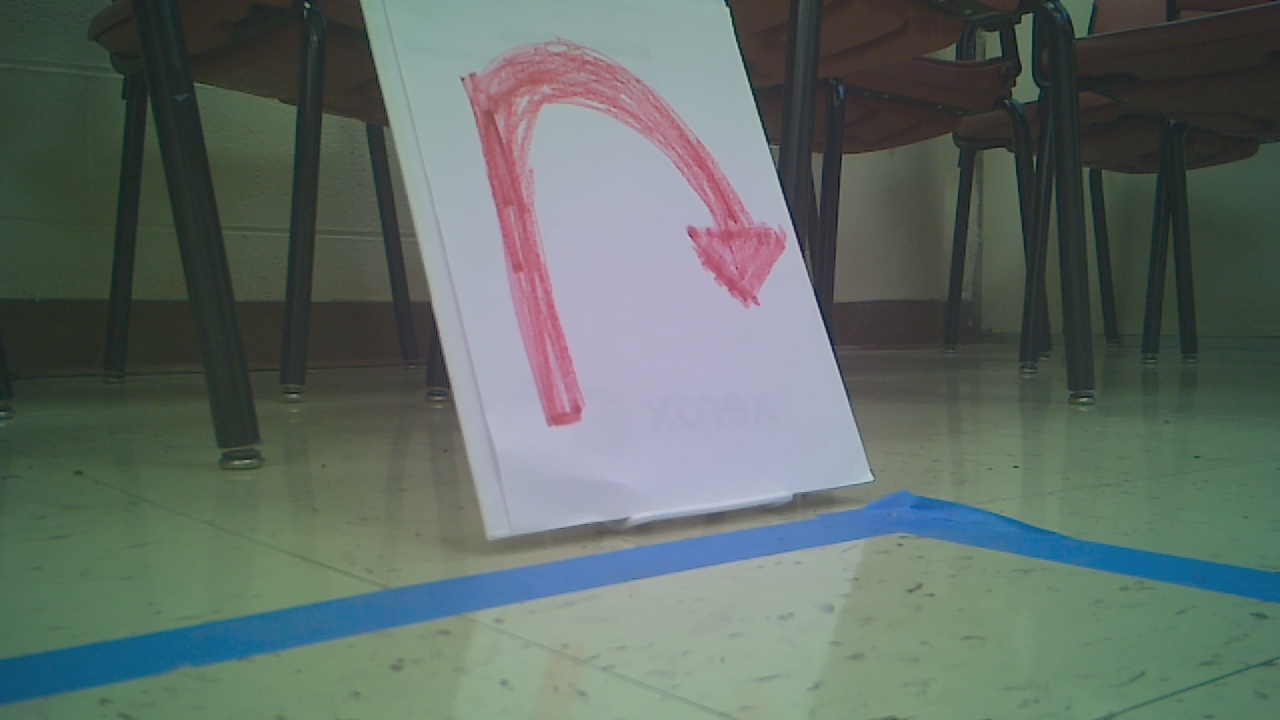uturn: (454, 37, 791, 431)
